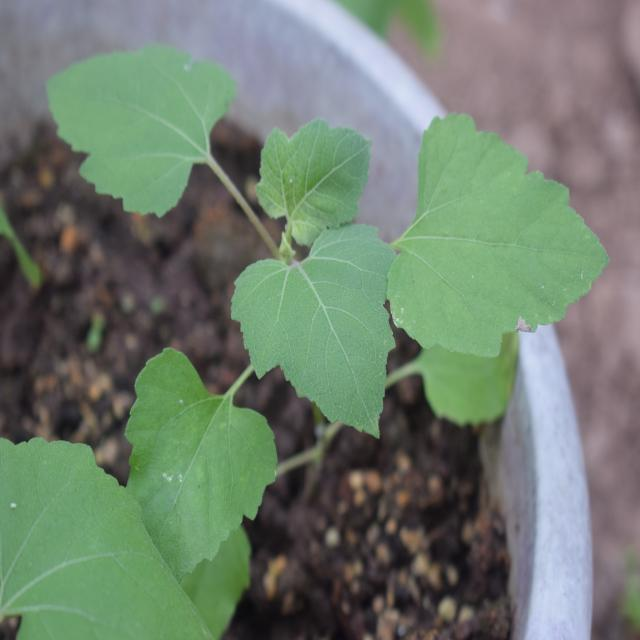cocklebur: (21, 35, 590, 425)
